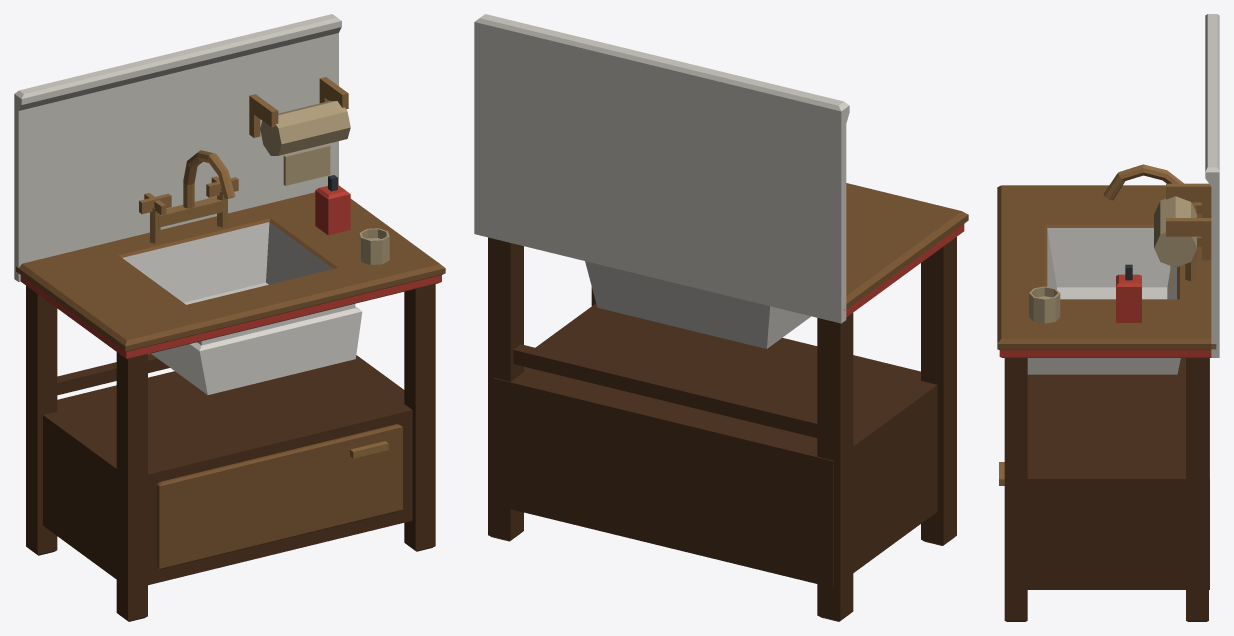
File: classroom-sink-unit-26fe09.glb
The picture shows the model from 3 angles, left to right: view 1: azimuth 30°, elevation 25°; view 2: azimuth 150°, elevation 25°; view 3: azimuth 270°, elevation 25°; orthographic projection. The views are drawn at different scales.
Visible parts, largest first — view 1: sink-unit, door-mesh, soap-mesh, beaker-mesh; view 2: sink-unit; view 3: sink-unit, soap-mesh, beaker-mesh.
Boxes of the visible parts, x1,y1,x2,y2 form: sink-unit: [14, 14, 445, 621]; door-mesh: [157, 424, 402, 569]; soap-mesh: [315, 175, 350, 235]; beaker-mesh: [359, 228, 389, 264]; sink-unit: [474, 14, 968, 621]; sink-unit: [997, 14, 1219, 621]; soap-mesh: [1116, 264, 1141, 322]; beaker-mesh: [1029, 286, 1060, 323].
Bounding box in the file's own units: 1 × 1.36 × 0.6.
